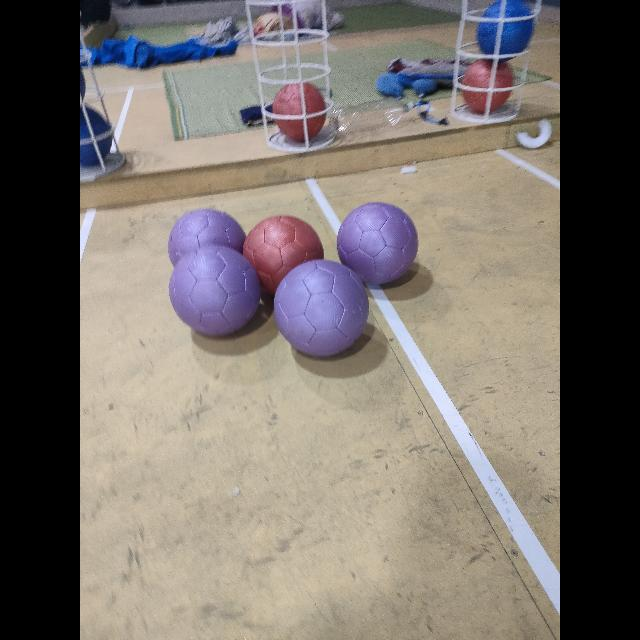B: (477, 0, 533, 60), (80, 106, 112, 166)
P: (274, 260, 368, 356), (170, 245, 260, 335), (334, 198, 418, 294), (170, 205, 248, 281), (272, 81, 326, 141), (462, 58, 512, 112)
R: (243, 215, 323, 292)
S: (240, 0, 338, 160), (453, 0, 535, 126), (80, 19, 132, 187)
